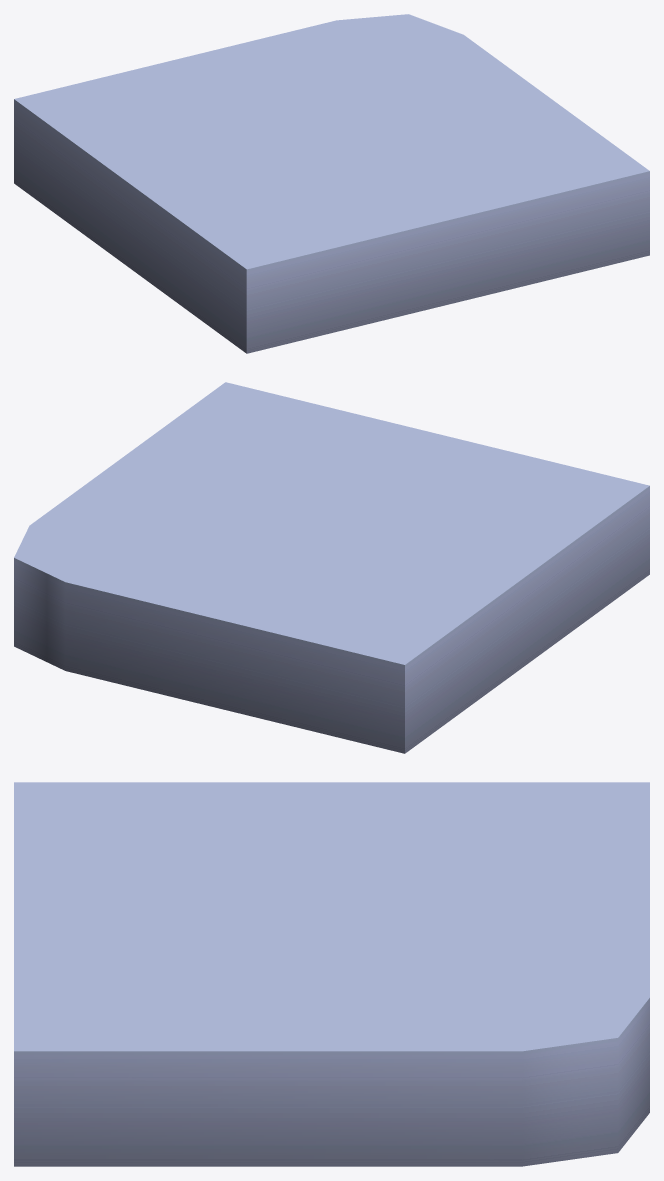
The model's file is floor-thick-corner-rounded.glb.
The picture shows the model from 3 angles, top to bottom: view 1: azimuth 30°, elevation 25°; view 2: azimuth 150°, elevation 25°; view 3: azimuth 270°, elevation 25°; orthographic projection. The views are drawn at different scales.
Visible parts, largest first — view 1: floor-thick-corner-rounded; view 2: floor-thick-corner-rounded; view 3: floor-thick-corner-rounded.
Boxes of the visible parts, x1,y1,x2,y2 form: floor-thick-corner-rounded: (14,14,649,353); floor-thick-corner-rounded: (14,382,649,753); floor-thick-corner-rounded: (14,782,649,1166).
Size of the model in its own units: 1 by 0.2 by 1.
1 material, 1 textured.
